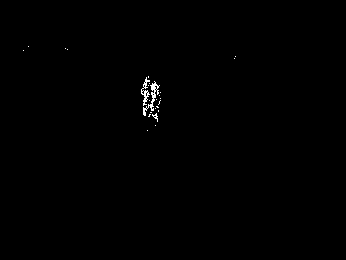person: (139, 73, 165, 126)
